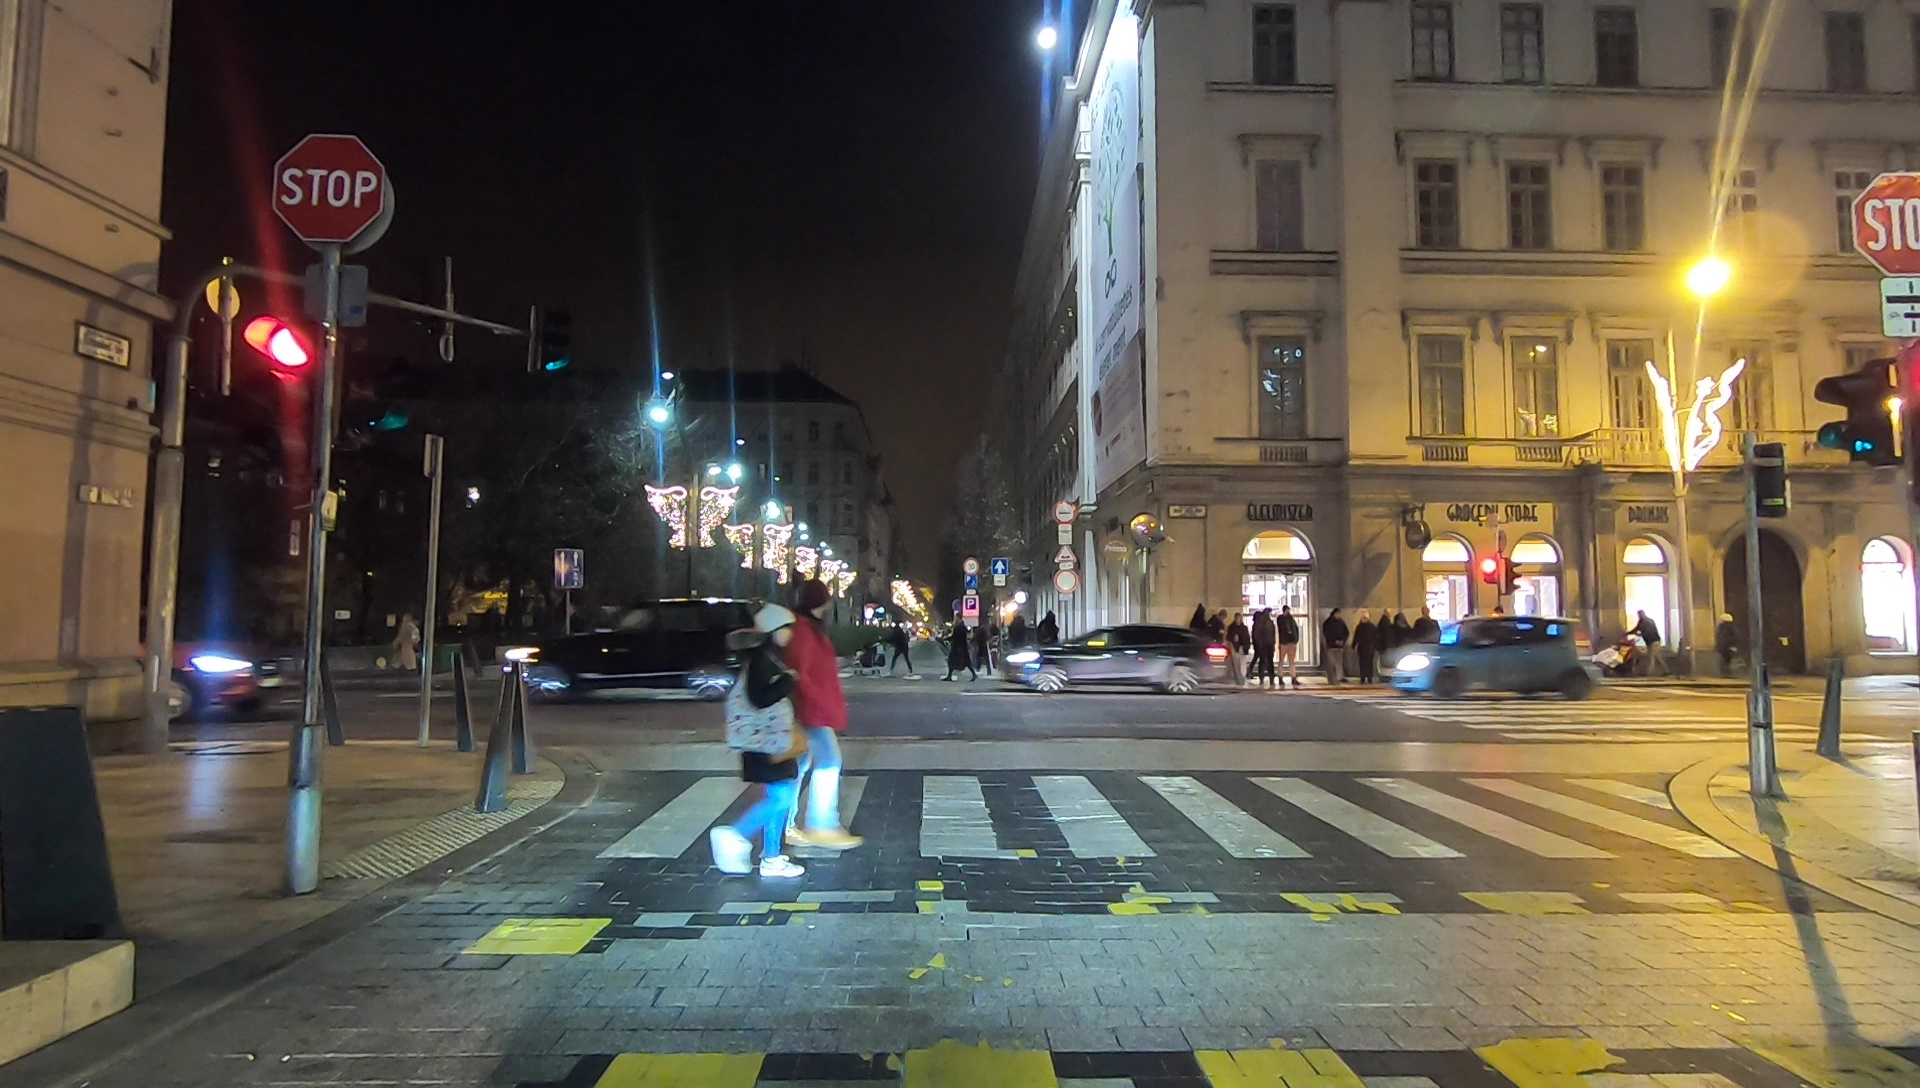person: (710, 606, 806, 884), (791, 589, 860, 850), (943, 617, 973, 686), (882, 617, 912, 682), (1636, 610, 1665, 671), (1276, 608, 1297, 680), (1252, 608, 1273, 678), (1326, 611, 1347, 682), (1358, 613, 1373, 686), (1228, 613, 1245, 674)
